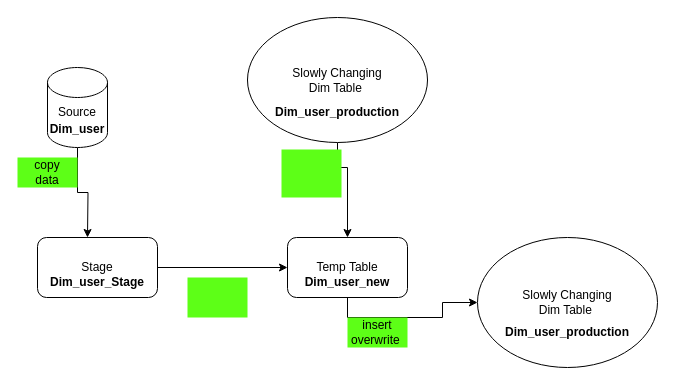
This 675x385 diagram has some shape labels left out. Here are the shapes that lost their labels. From the top down, the centre of each, then its label:
At [311,173]: "inserting inactive records".
At [217,297]: "inserting new records".
